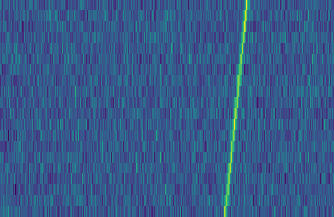signal: (221, 0, 253, 217)
